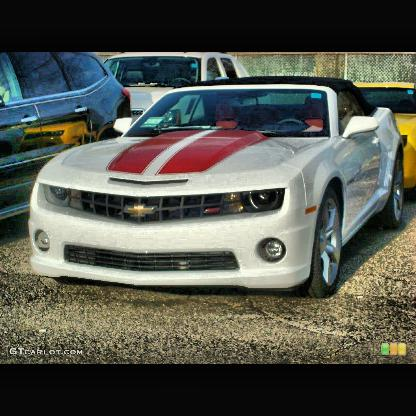Chevrolet Camaro Convertible 2012: (24, 79, 409, 300)
